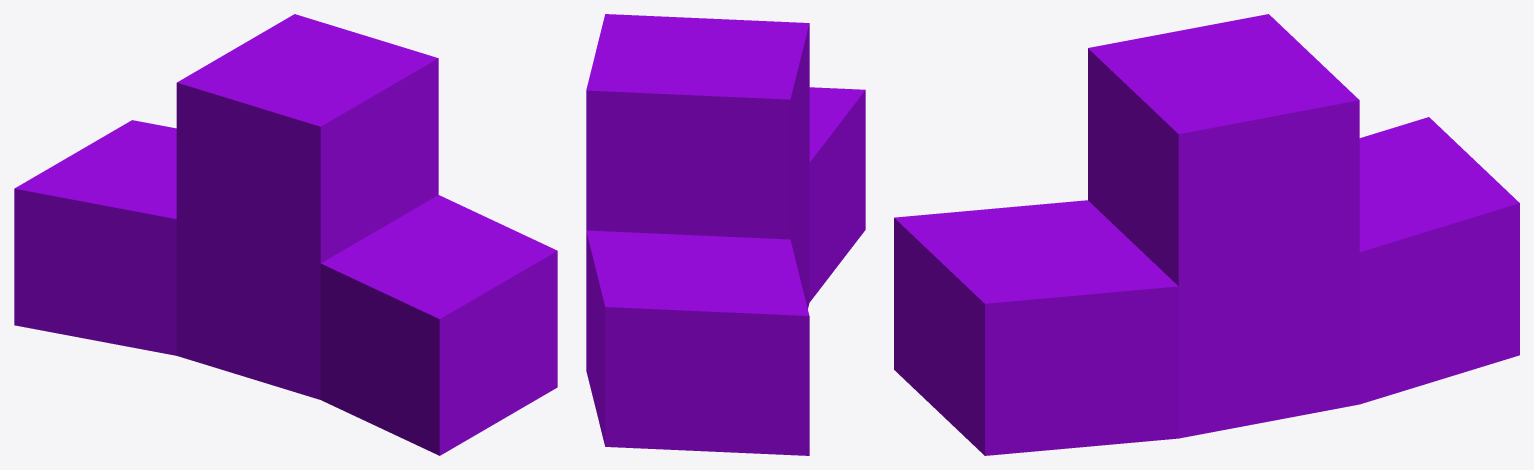
The model's file is Piece4.fbx.
3 views of the same model, side by side, from view 1: azimuth 30°, elevation 25°; view 2: azimuth 150°, elevation 25°; view 3: azimuth 270°, elevation 25° (orthographic). The views are drawn at different scales.
Parts seen in each view (by area): view 1: Block4; view 2: Block4; view 3: Block4.
Part boxes in pixels (bbox=[...]): Block4: bbox=[14, 14, 557, 455]; Block4: bbox=[586, 14, 865, 455]; Block4: bbox=[894, 14, 1519, 455].
Size of the model in its own units: 198 by 150 by 280.
